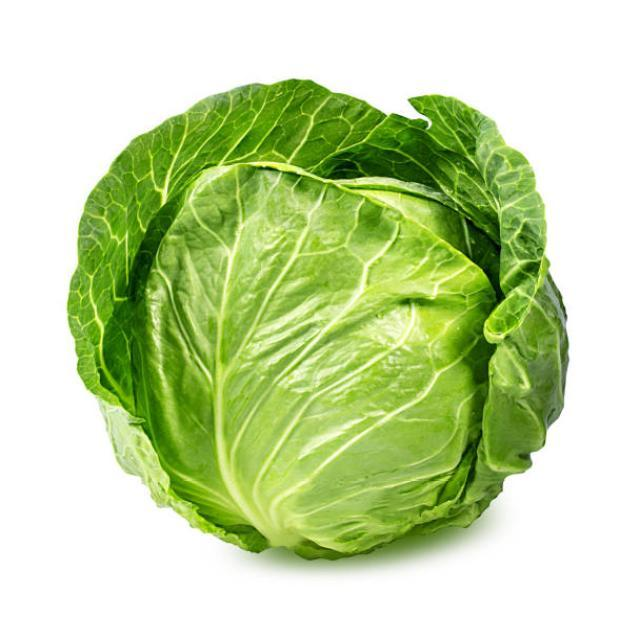cabbage: (62, 81, 570, 561)
